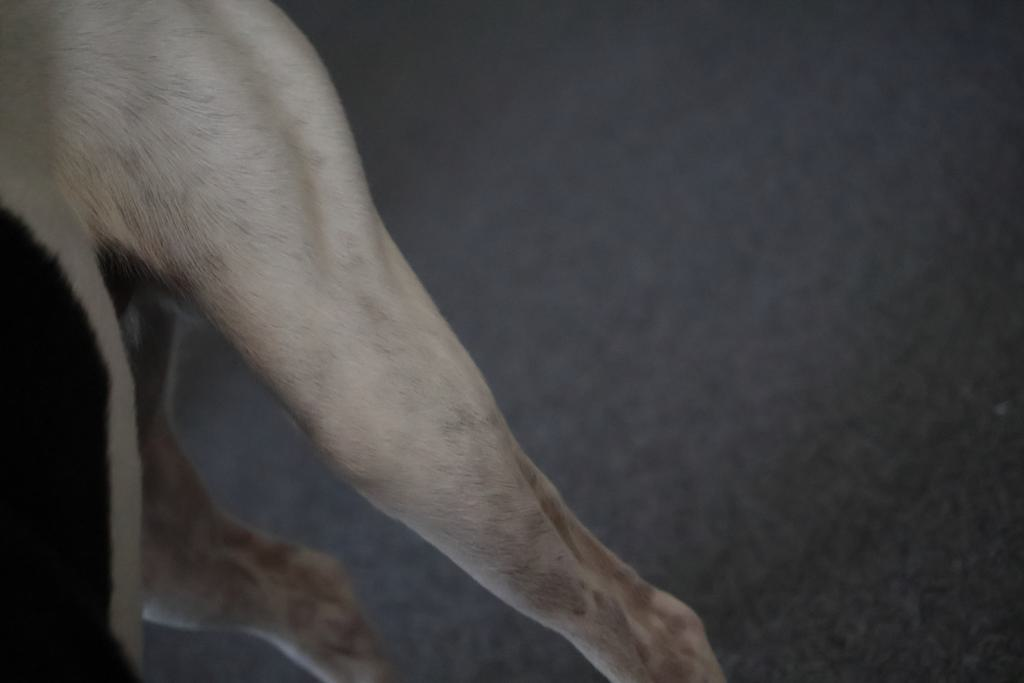Dog: (0, 0, 733, 683)
